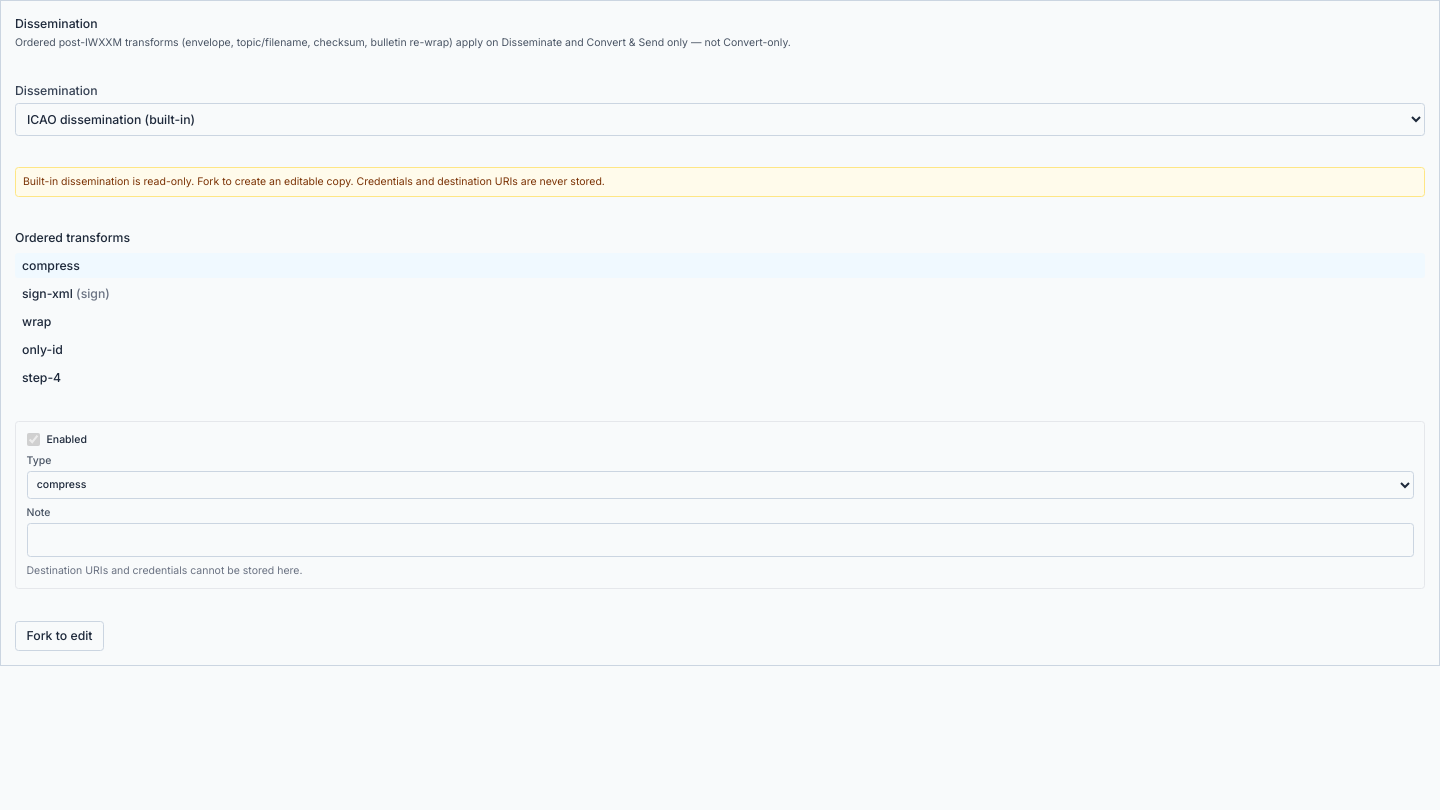
Scenario: DisseminationLibraryPanel › loads transforms and switches libraries
Check: the list with test id "dissemination-transforms-list" shows "compress", box [15,253,1425,278]
Check: the list with test id "dissemination-transforms-list" shows "sign-xml", box [15,281,1425,306]
Select "US dissemination (custom)" in the dropdown with test id "library-assets-select-dissemination": [720, 119] box [15,102,1425,136]
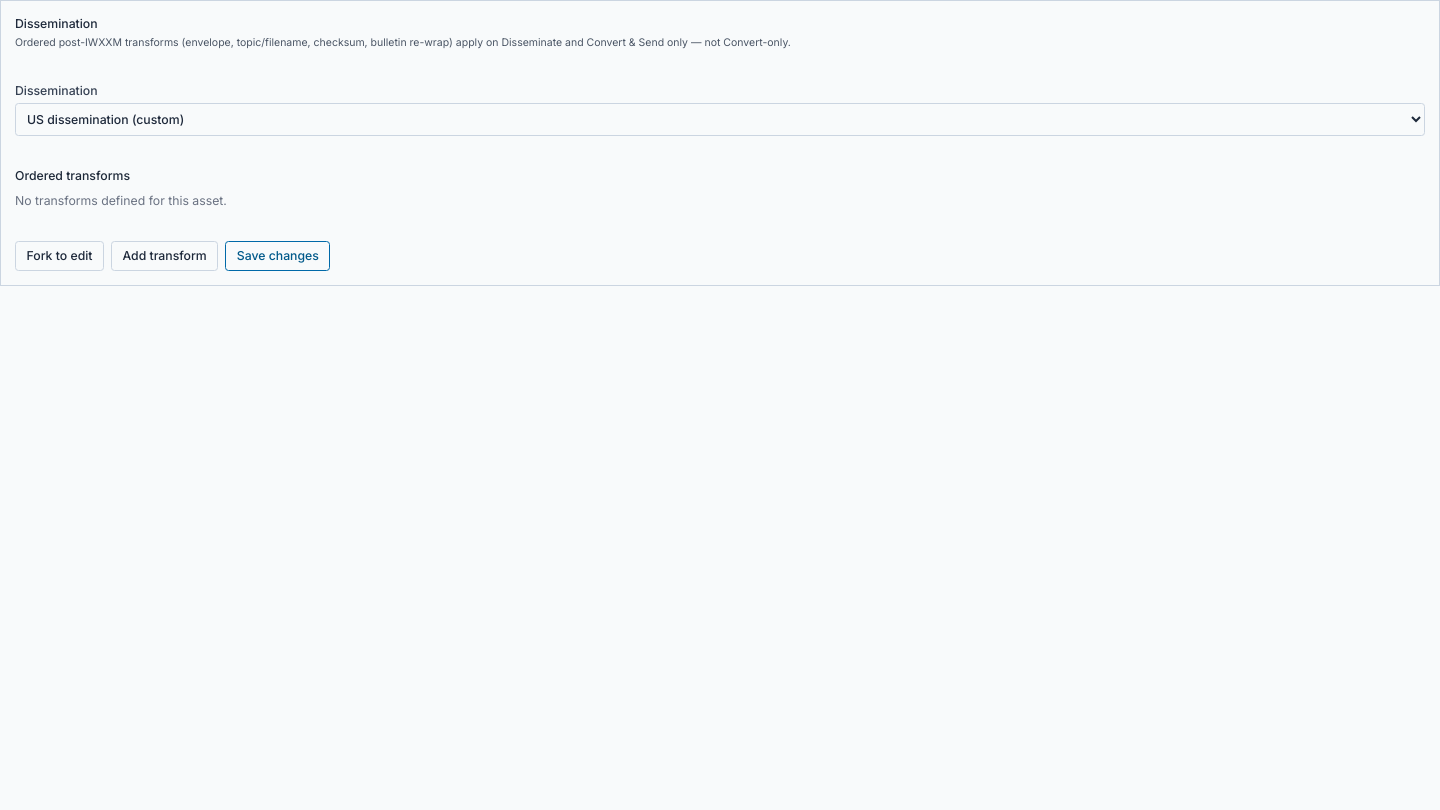
Check: the text "No transforms defined for this asset." is shown, box [15,192,227,208]
